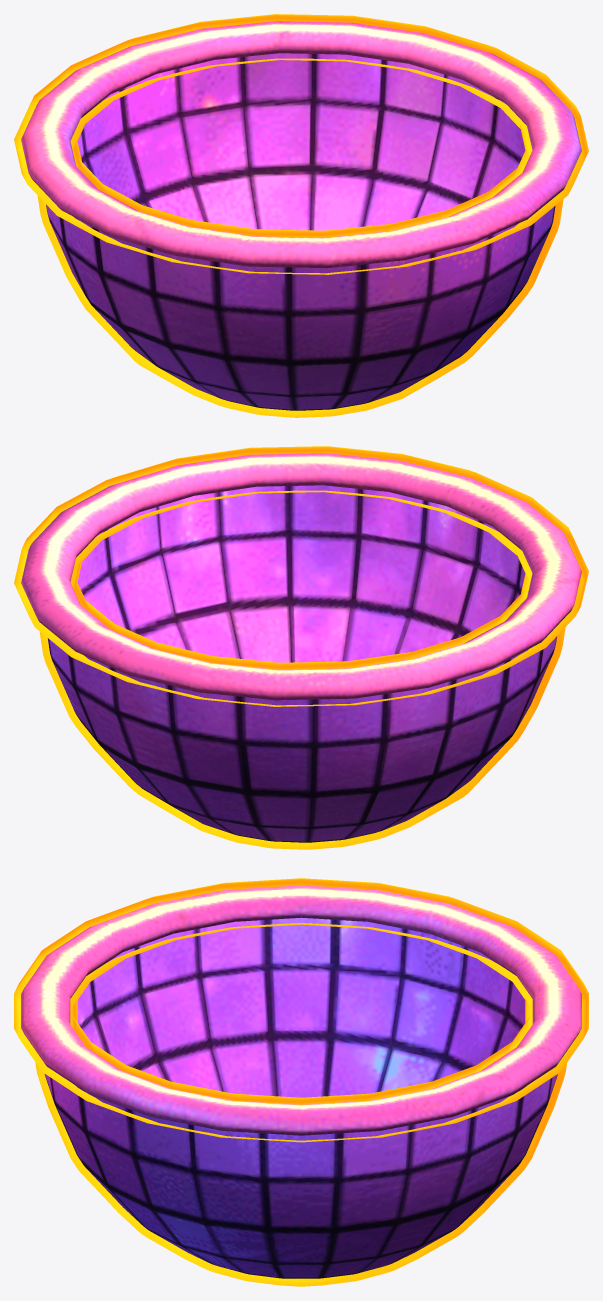
The model's file is Disco_Ball.glb.
The picture shows the model from 3 angles, top to bottom: view 1: azimuth 30°, elevation 25°; view 2: azimuth 150°, elevation 25°; view 3: azimuth 270°, elevation 25°; orthographic projection.
Parts seen in each view (by area): view 1: DiscoHalf_TilesOuter.002, DiscoHalf_TilesOuter.001, DiscoHalf_TilesOuter.004, DiscoHalf_TilesOuter.005; view 2: DiscoHalf_TilesOuter.002, DiscoHalf_TilesOuter.001, DiscoHalf_TilesOuter.004, DiscoHalf_TilesOuter.005; view 3: DiscoHalf_TilesOuter.002, DiscoHalf_TilesOuter.001, DiscoHalf_TilesOuter.004, DiscoHalf_TilesOuter.005.
Boxes of the visible parts, x1,y1,x2,y2 form: DiscoHalf_TilesOuter.002: (46, 53, 555, 410); DiscoHalf_TilesOuter.001: (21, 21, 581, 268); DiscoHalf_TilesOuter.004: (14, 14, 588, 274); DiscoHalf_TilesOuter.005: (37, 196, 563, 417); DiscoHalf_TilesOuter.002: (47, 485, 556, 842); DiscoHalf_TilesOuter.001: (21, 453, 581, 700); DiscoHalf_TilesOuter.004: (14, 446, 588, 706); DiscoHalf_TilesOuter.005: (39, 627, 565, 849); DiscoHalf_TilesOuter.002: (44, 917, 557, 1278); DiscoHalf_TilesOuter.001: (21, 885, 581, 1135); DiscoHalf_TilesOuter.004: (14, 878, 588, 1142); DiscoHalf_TilesOuter.005: (35, 1062, 566, 1286).
Bounding box in the file's own units: 0.4633 × 0.2374 × 0.4586.
Materials: 2 (1 with a texture image).
